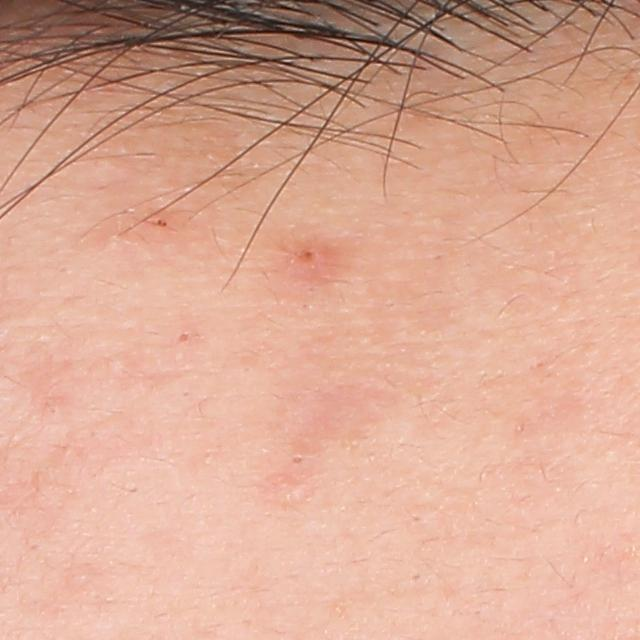comedo: (289, 452, 307, 466), (176, 332, 190, 344)
